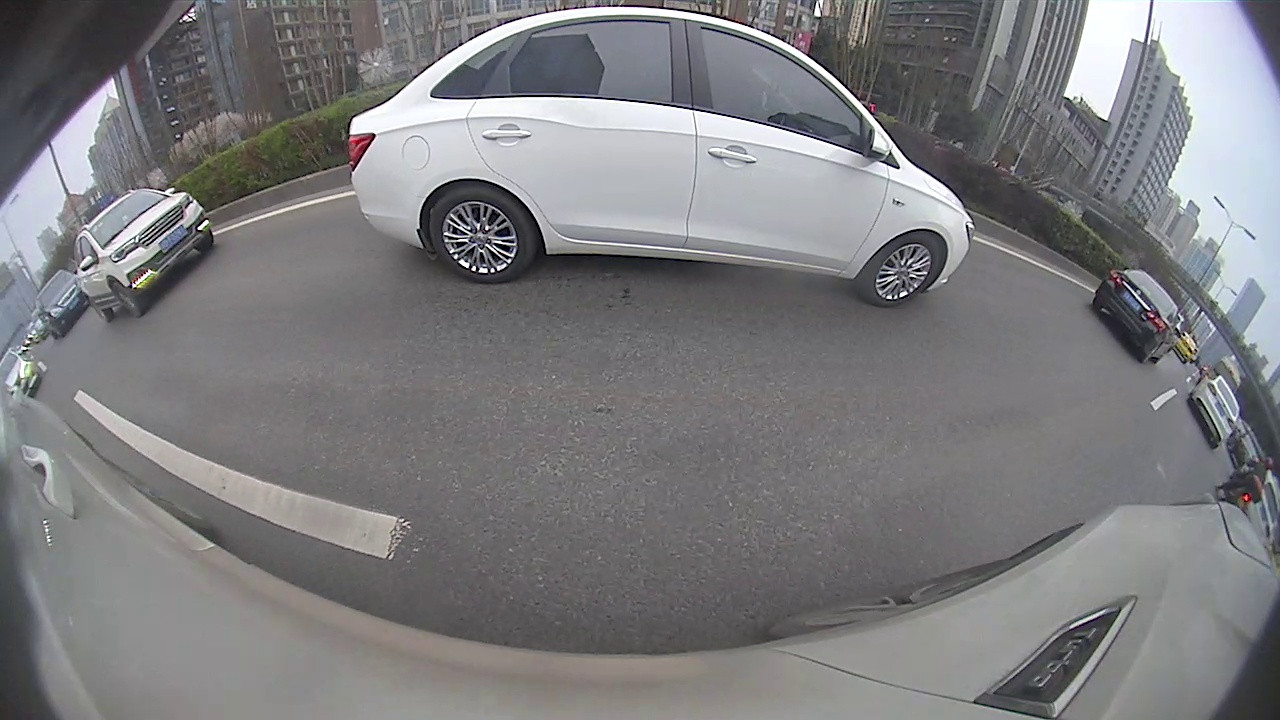car: (349, 6, 974, 309), (74, 186, 214, 324), (1092, 267, 1181, 363), (1187, 375, 1243, 450)
front: (863, 241, 953, 304), (110, 280, 141, 320)
rear: (426, 187, 534, 283)
